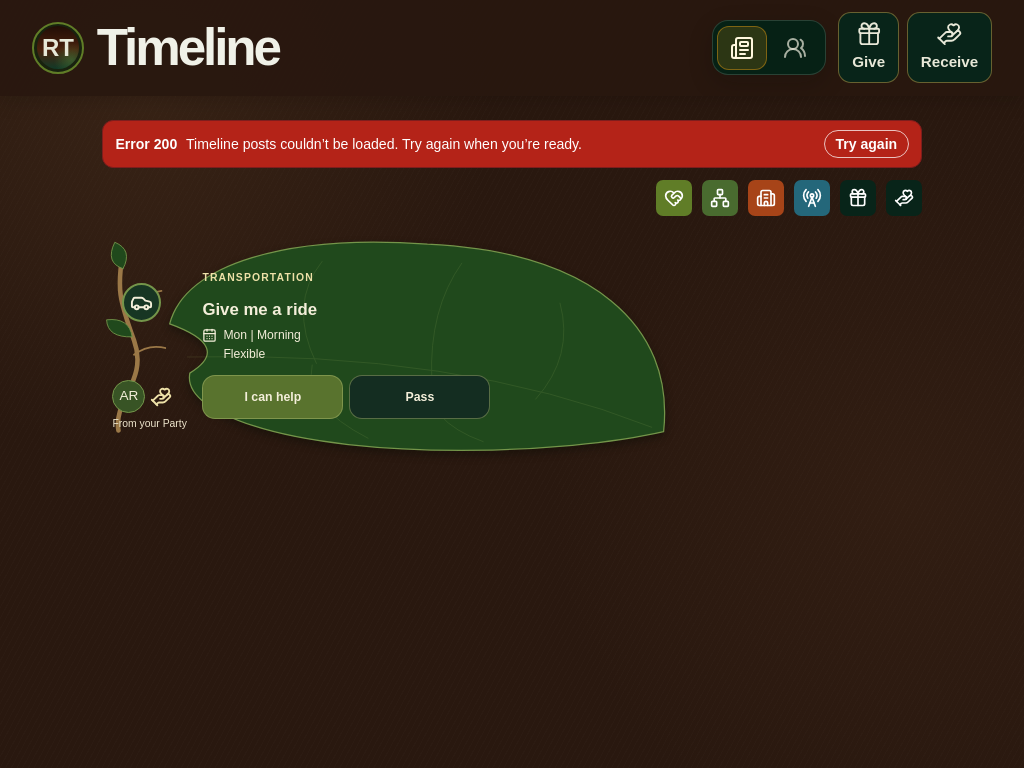
Test case: unified Care › claims a Care without changing its identity
Expected: the element named "timeline view" is shown, [102, 120, 922, 455]
Click the button "I can help" at (273, 397), box [202, 375, 343, 419]
(page scrolled)
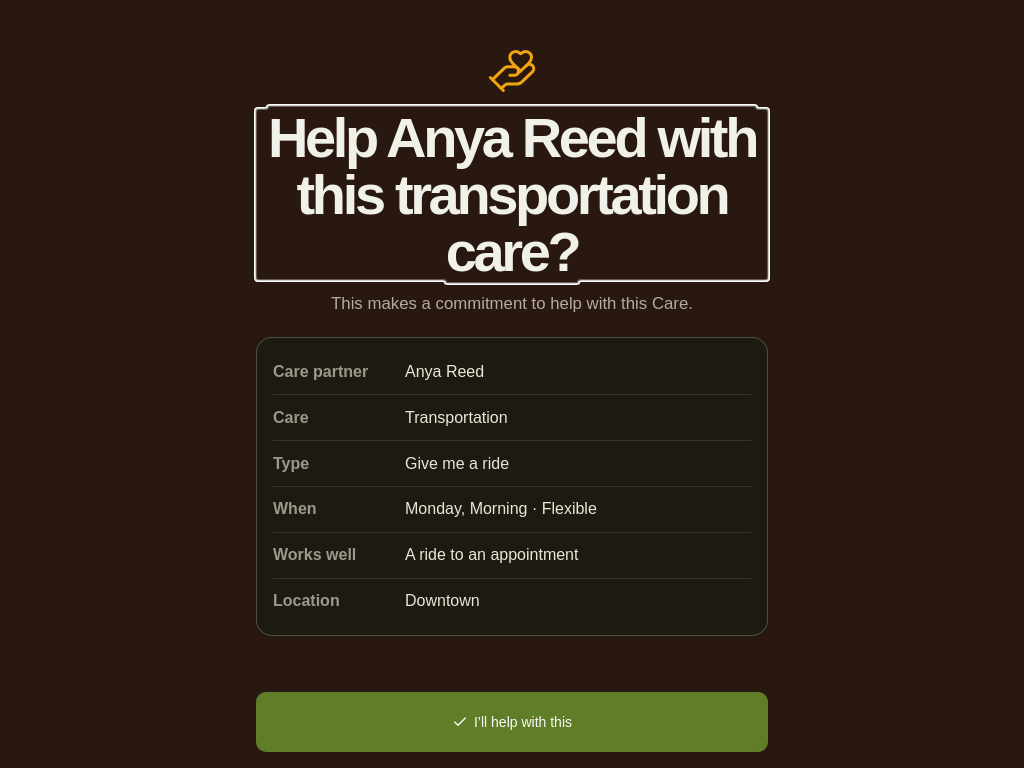
Now the heading "Help Anya Reed with this transportation care?" is shown, box [256, 109, 768, 280]
Click the button "I’ll help with this" at (512, 722), box [256, 692, 768, 752]
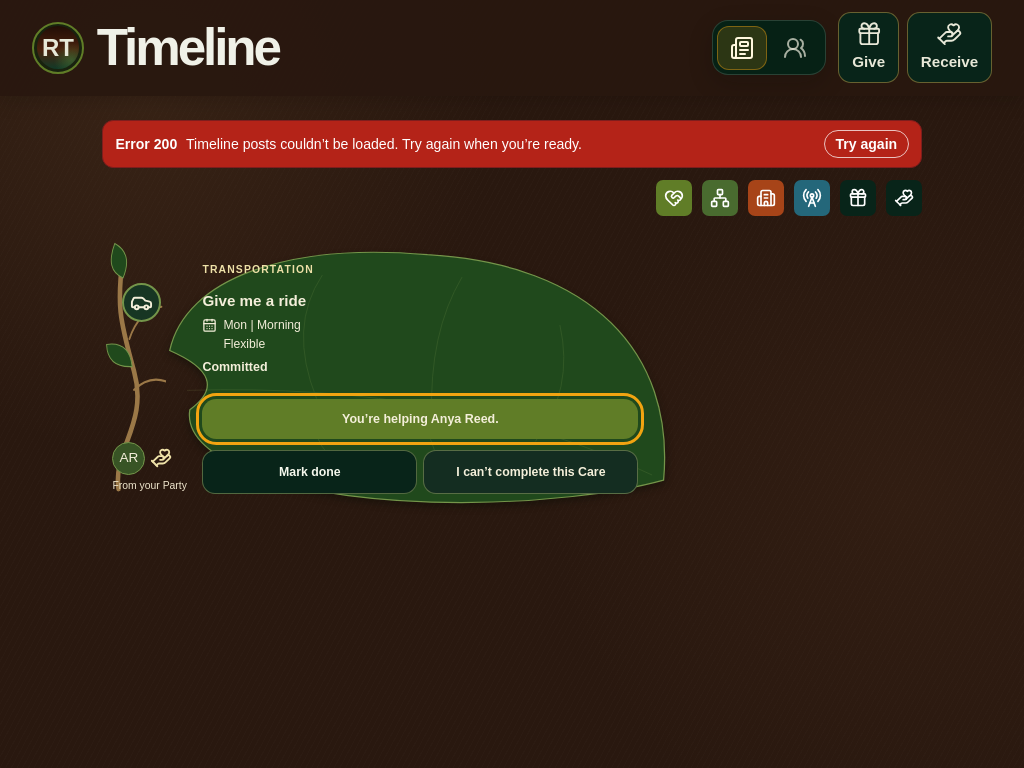
Now the text "Committed" is shown, box [202, 360, 268, 374]
